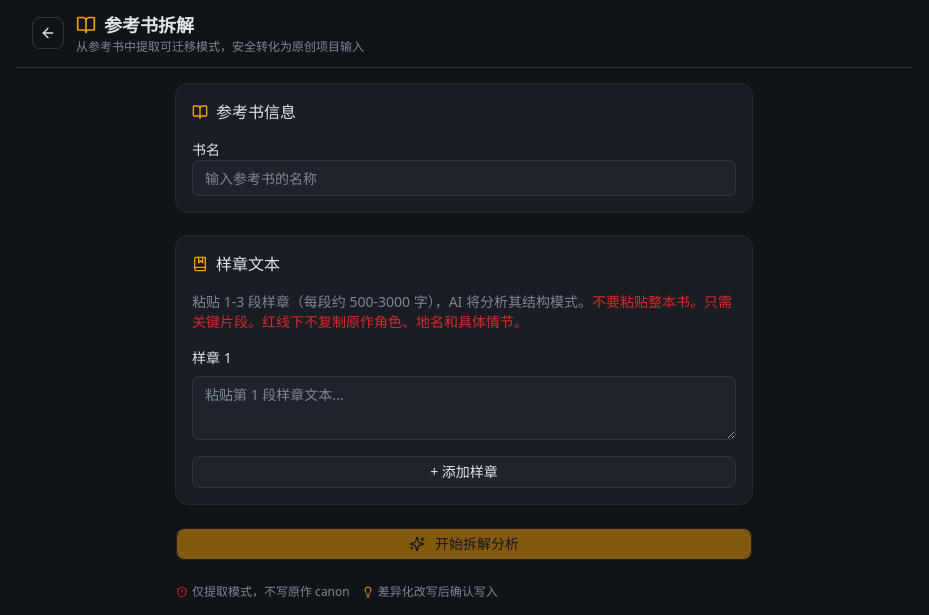
DeconstructPage › shows error state on failure
Type "测试书" into the field with placeholder "输入参考书的名称" at (464,178), box [192, 160, 736, 196]
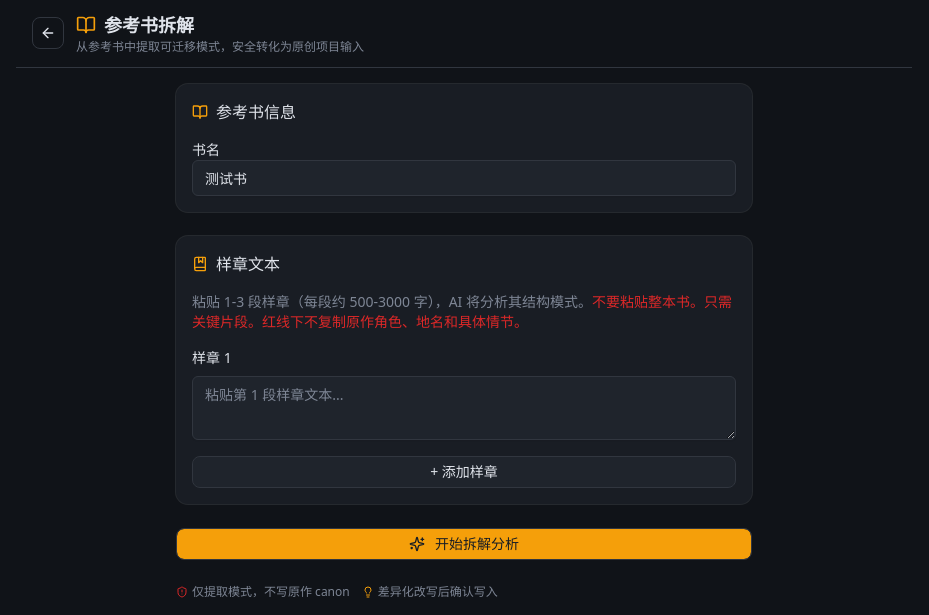
Type "样章" into the text box with placeholder "粘贴第 1 段样章文本..." at (464,408), box [192, 376, 736, 440]
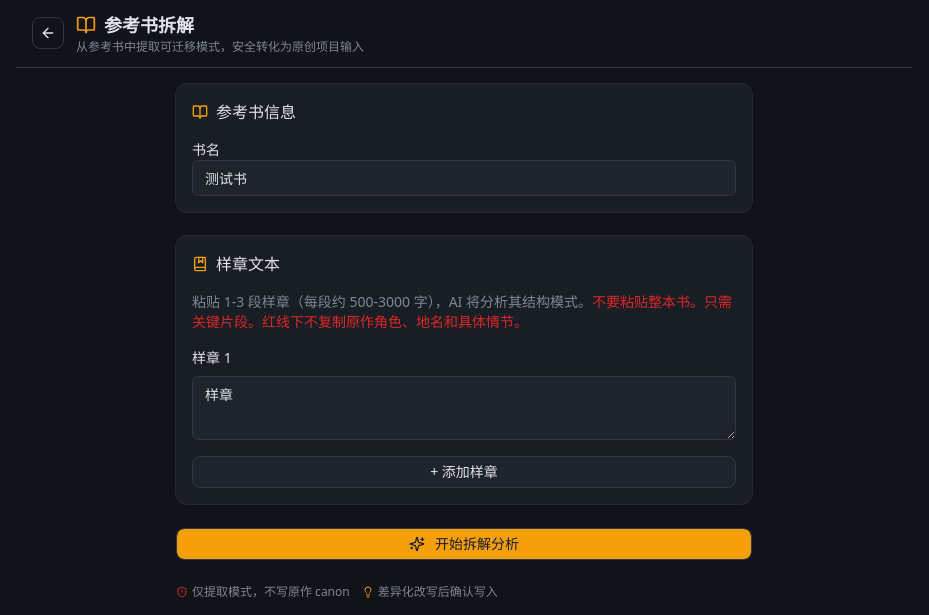
Click the button "开始拆解分析" at (464,544), box [176, 528, 752, 560]
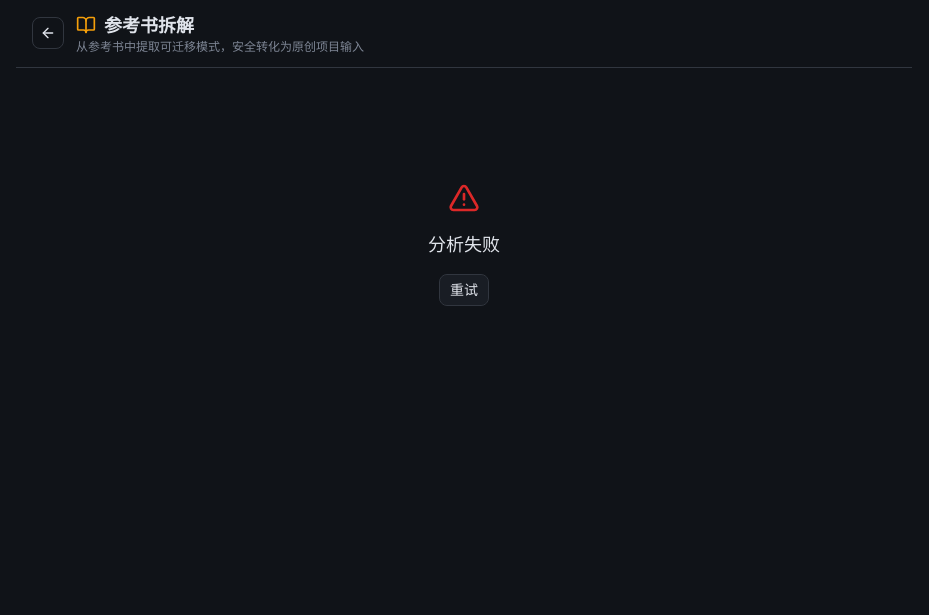
Expected: the text "分析失败" is shown, [428, 230, 500, 258]
